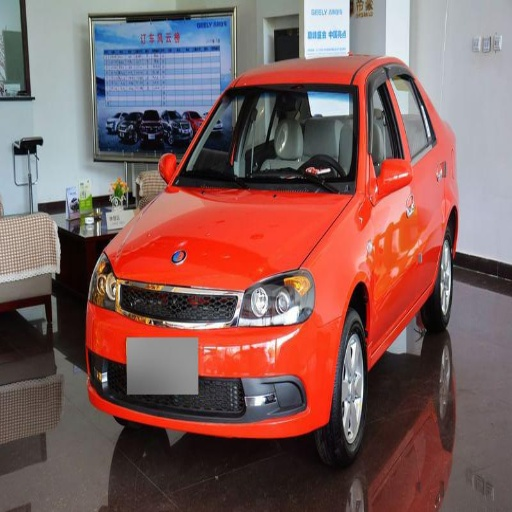front_bumper: (90, 278, 344, 437)
front_glass: (174, 89, 353, 193)
front_left_door: (365, 61, 417, 332)
front_right_light: (91, 253, 134, 313)
